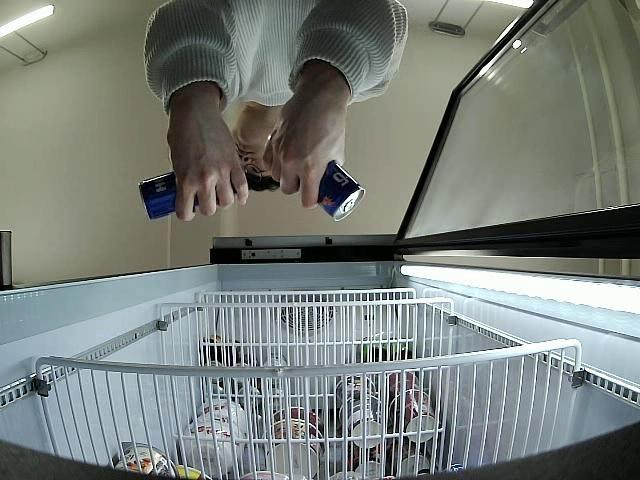16_hot6: (137, 169, 250, 220), (318, 161, 368, 222)
